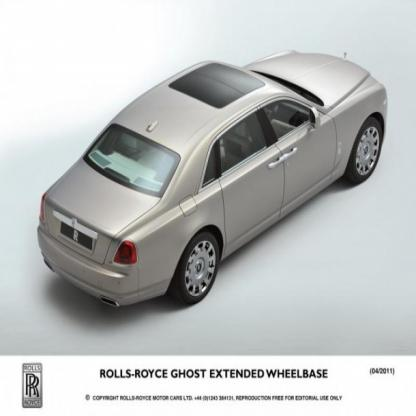Vehicle: (37, 46, 390, 312)
